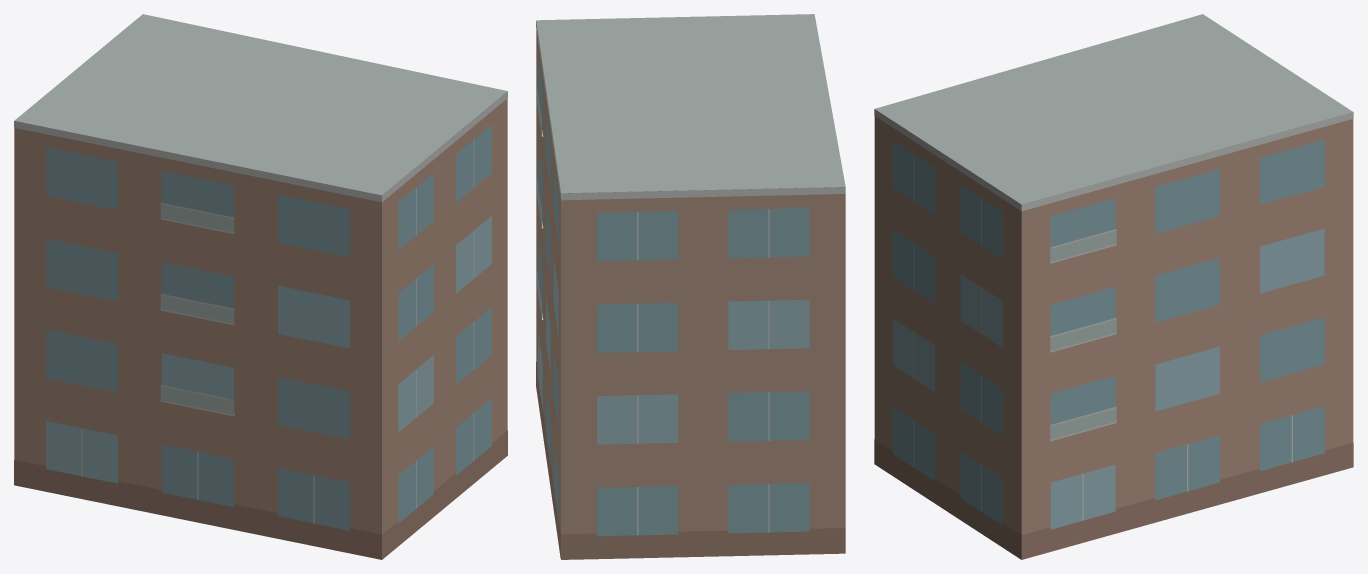
The model's file is survey-upis-32890096.glb.
The picture shows the model from 3 angles, left to right: view 1: azimuth 30°, elevation 25°; view 2: azimuth 150°, elevation 25°; view 3: azimuth 270°, elevation 25°; orthographic projection. The views are drawn at different scales.
Parts seen in each view (by area): view 1: survey-upis-32890096.tmp; view 2: survey-upis-32890096.tmp; view 3: survey-upis-32890096.tmp.
Boxes of the visible parts, x1,y1,x2,y2 form: survey-upis-32890096.tmp: [14, 14, 507, 559]; survey-upis-32890096.tmp: [536, 14, 845, 559]; survey-upis-32890096.tmp: [874, 14, 1353, 559].
Size of the model in its own units: 14.73 by 12.8 by 15.65.
